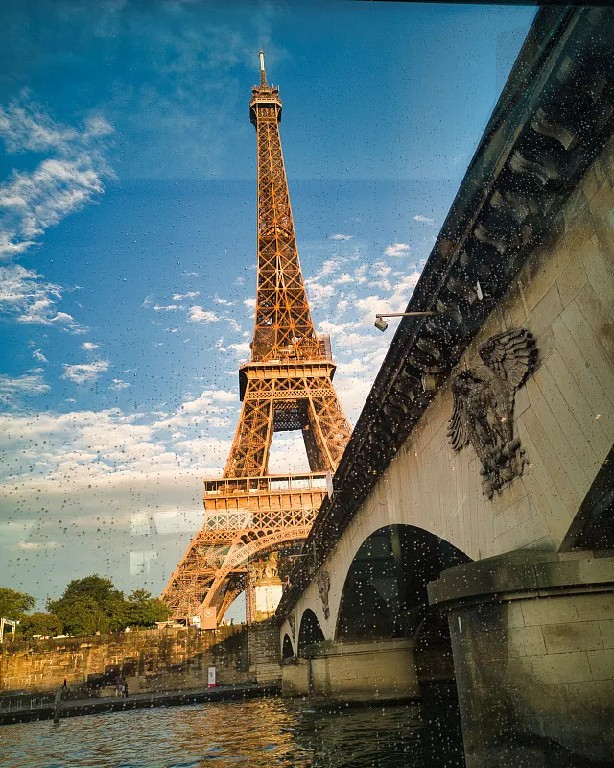Eiffel: (149, 48, 358, 621)
